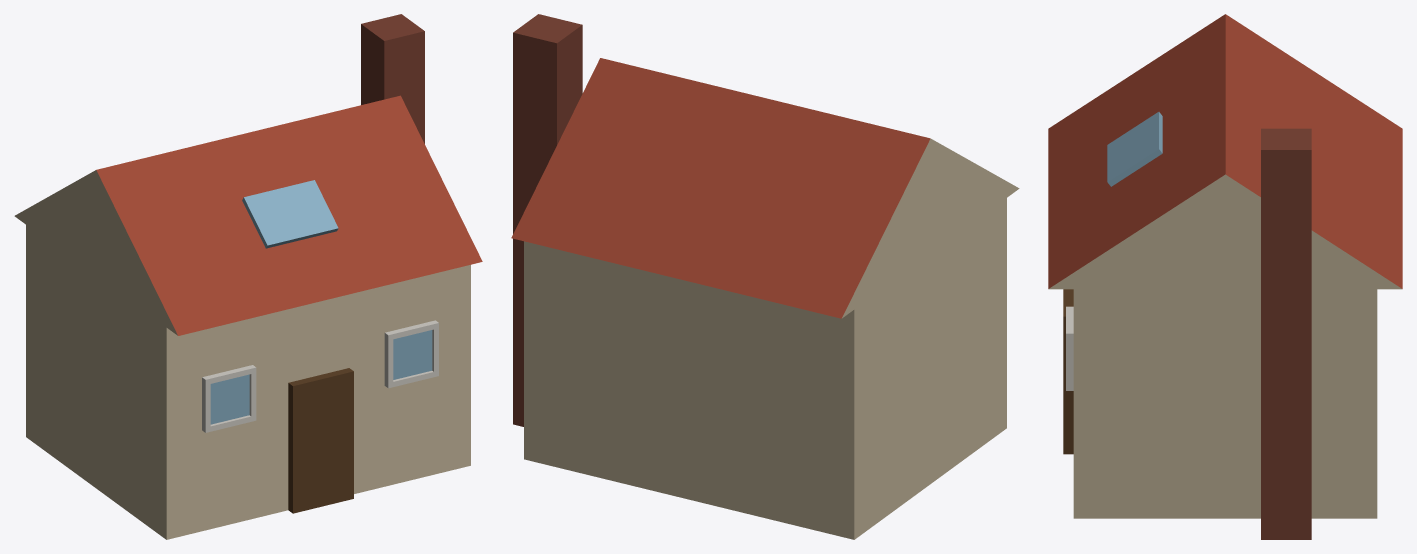
Rendered from house.glb.
3 views of the same model, side by side, from view 1: azimuth 30°, elevation 25°; view 2: azimuth 150°, elevation 25°; view 3: azimuth 270°, elevation 25° (orthographic). The views are drawn at different scales.
Parts seen in each view (by area): view 1: walls, roof/front_half, door, chimney, roof/back_half, skylight, window_left, window_right; view 2: walls, roof/back_half, chimney, roof/front_half; view 3: walls, roof/front_half, roof/back_half, chimney, skylight, door, window_left.
Part boxes in pixels (<box>): walls: <box>26,225,470,539</box>; roof/front_half: <box>96,95,482,335</box>; door: <box>288,368,353,513</box>; chimney: <box>361,14,424,143</box>; roof/back_half: <box>14,170,96,275</box>; skylight: <box>242,180,338,248</box>; window_left: <box>384,320,438,388</box>; window_right: <box>202,365,256,432</box>; walls: <box>524,198,1006,539</box>; roof/back_half: <box>511,58,930,318</box>; chimney: <box>513,14,582,426</box>; roof/front_half: <box>930,139,1019,253</box>; walls: <box>1073,289,1377,518</box>; roof/front_half: <box>1048,14,1225,289</box>; roof/back_half: <box>1225,14,1402,289</box>; chimney: <box>1261,128,1311,539</box>; skylight: <box>1107,112,1162,186</box>; door: <box>1063,289,1073,454</box>; window_left: <box>1066,306,1073,390</box>.
Bounding box in the file's own units: 3.4 × 3.4 × 2.8.
